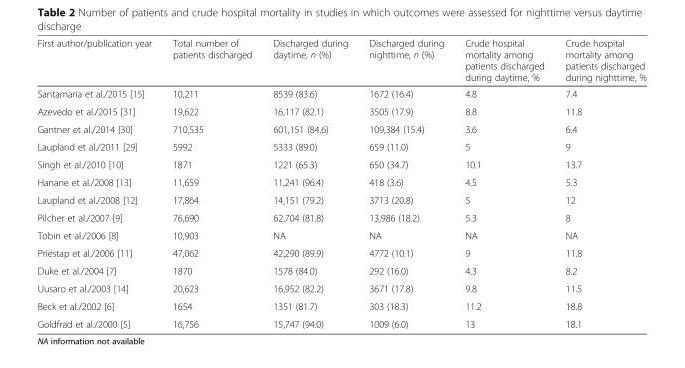table: (36, 37, 645, 329)
table column: (36, 37, 161, 329), (453, 37, 554, 329), (161, 37, 261, 329), (261, 37, 357, 329), (357, 37, 453, 329), (554, 37, 645, 329)
table column header: (36, 37, 645, 85)
table row: (36, 37, 645, 85), (36, 119, 645, 137), (36, 137, 645, 155), (36, 155, 645, 173), (36, 190, 645, 208), (36, 208, 645, 226), (36, 243, 645, 261), (36, 261, 645, 279), (36, 279, 645, 297), (36, 85, 645, 102), (36, 102, 645, 119), (36, 173, 645, 190), (36, 226, 645, 243), (36, 297, 645, 314), (36, 314, 645, 329)
